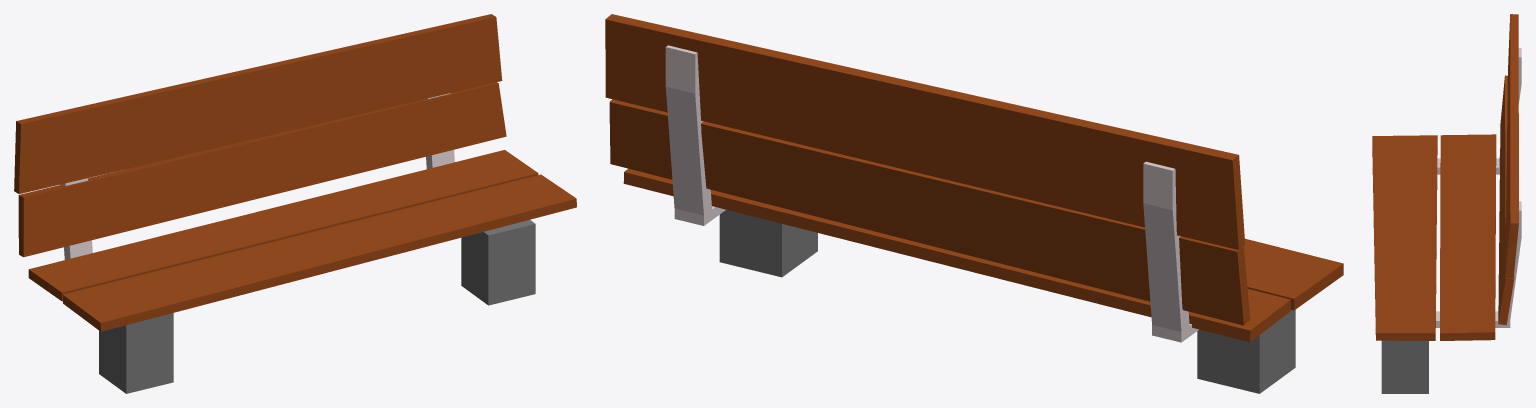
File: Bench.fbx
3 renders of one model, left to right at view 1: azimuth 30°, elevation 25°; view 2: azimuth 150°, elevation 25°; view 3: azimuth 270°, elevation 25°, orthographic. The views are drawn at different scales.
Parts seen in each view (by area): view 1: Sitzbank Iron; view 2: Sitzbank Iron; view 3: Sitzbank Iron.
Part boxes in pixels (x1,y1,x2,y2): Sitzbank Iron: (14,14,576,393); Sitzbank Iron: (605,14,1343,393); Sitzbank Iron: (1372,14,1521,393).
Bounding box in the file's own units: 320 × 142 × 99.1.
